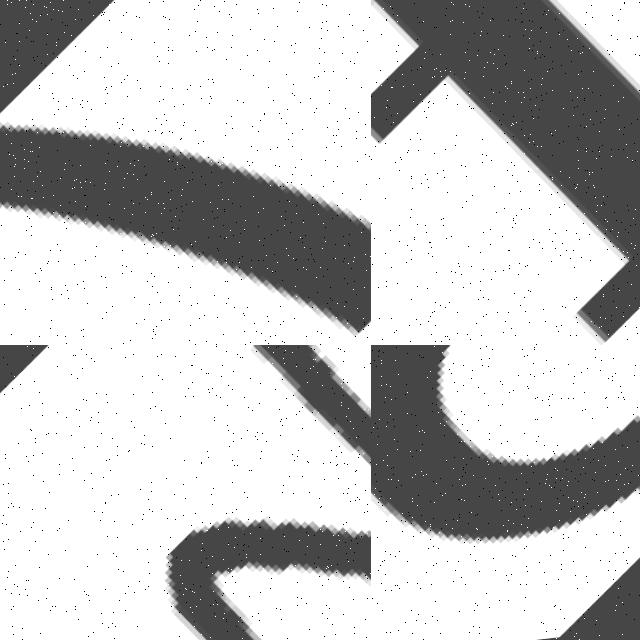5: (371, 345, 640, 640)
7: (0, 0, 371, 345)
F: (371, 0, 640, 345)
H: (163, 525, 371, 640)
